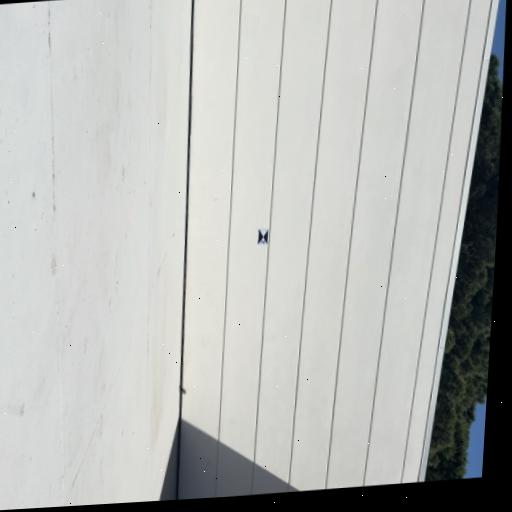target7: (258, 228, 268, 245)
